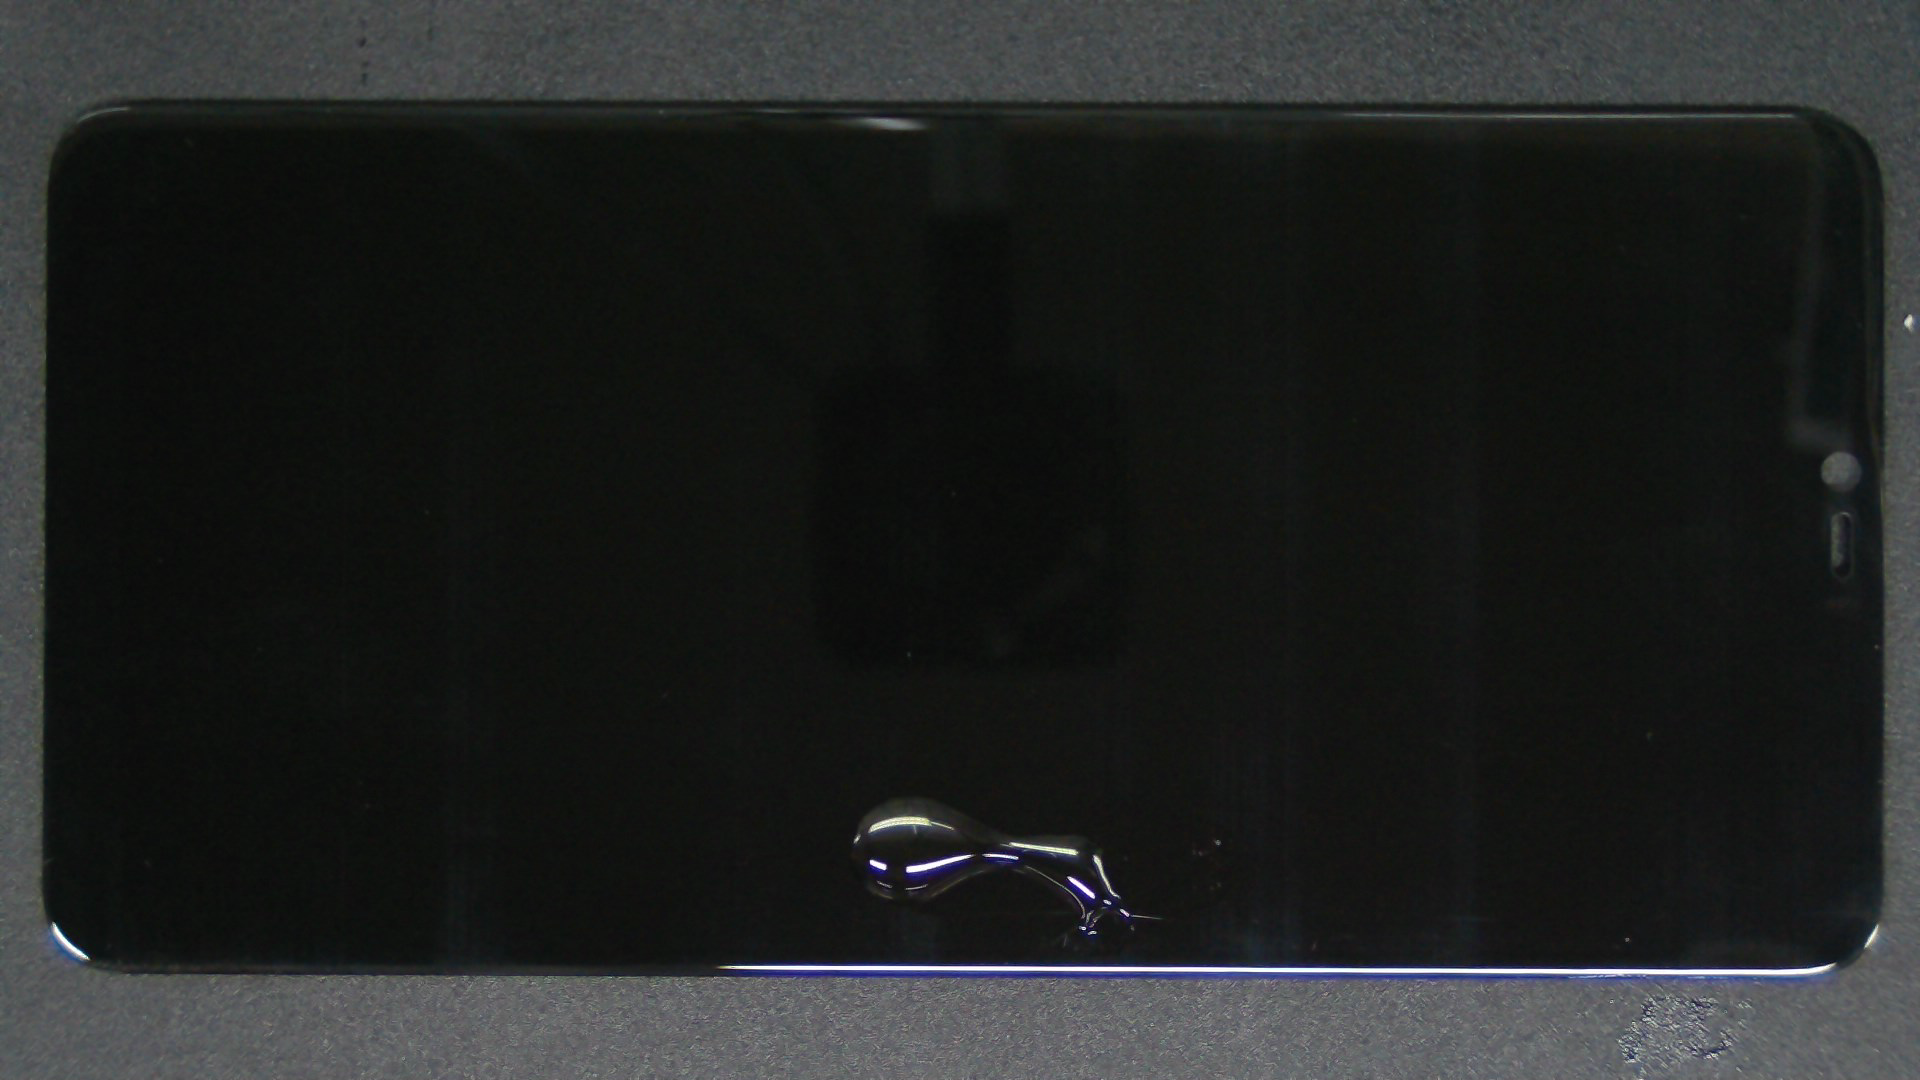defect: (851, 796, 1174, 938)
